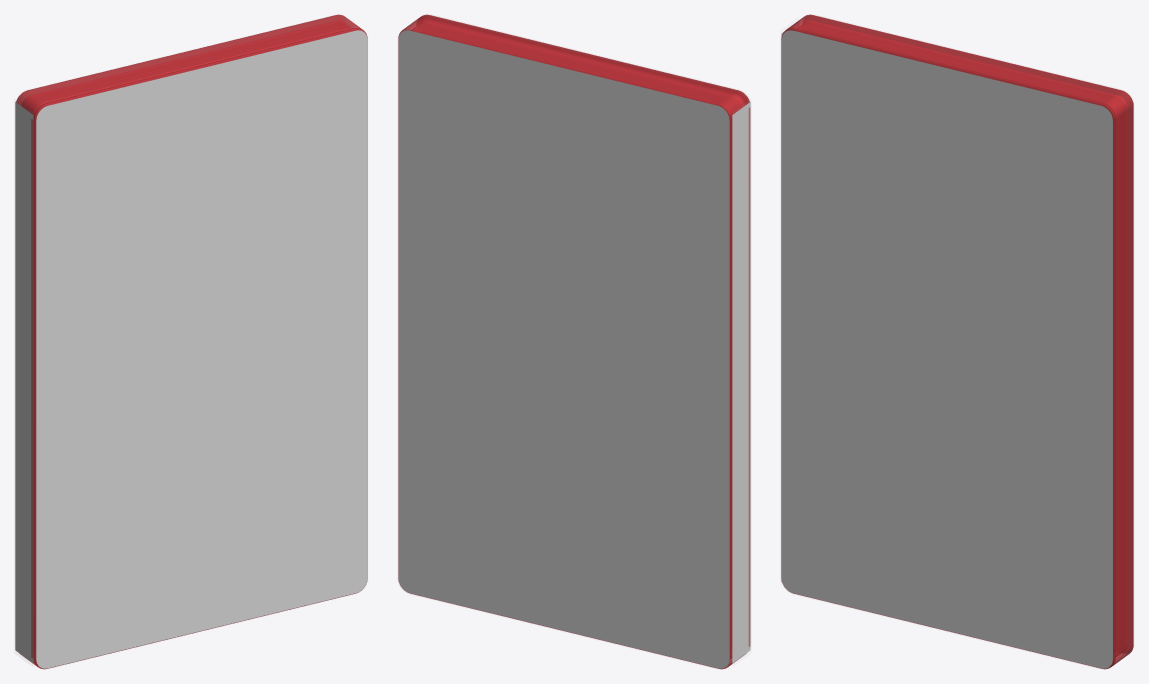
The model's file is switch2.glb.
The picture shows the model from 3 angles, left to right: view 1: azimuth 30°, elevation 25°; view 2: azimuth 150°, elevation 25°; view 3: azimuth 330°, elevation 25°; orthographic projection.
Parts seen in each view (by area): view 1: Art_Front, Art_Spine, Tray, Front_Cover, Hinge, Insert_Spine; view 2: Art_Back, Art_Spine, Tray, Hinge, Front_Cover, Insert_Spine; view 3: Art_Front, Tray, Front_Cover, Tray_Rim, Insert_Front.
Boxes of the visible parts, left/top/right/bottom form: Art_Front: left=36, top=30, right=367, bottom=668; Art_Spine: left=15, top=102, right=33, bottom=662; Tray: left=16, top=14, right=360, bottom=665; Front_Cover: left=33, top=28, right=367, bottom=669; Hinge: left=31, top=119, right=35, bottom=658; Insert_Spine: left=33, top=115, right=33, bottom=663; Art_Back: left=398, top=30, right=729, bottom=668; Art_Spine: left=732, top=102, right=750, bottom=662; Tray: left=398, top=16, right=747, bottom=669; Hinge: left=748, top=107, right=750, bottom=646; Front_Cover: left=417, top=14, right=749, bottom=653; Insert_Spine: left=732, top=115, right=732, bottom=663; Art_Front: left=781, top=30, right=1112, bottom=668; Tray: left=788, top=14, right=1133, bottom=665; Front_Cover: left=781, top=28, right=1115, bottom=669; Tray_Rim: left=813, top=21, right=1127, bottom=644; Insert_Front: left=1111, top=114, right=1112, bottom=658.
Bounding box in the file's own units: 0.1053 × 0.17 × 0.0117.
